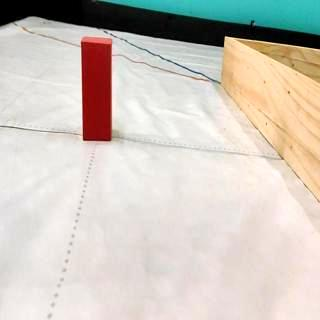redbox: (80, 36, 112, 142)
